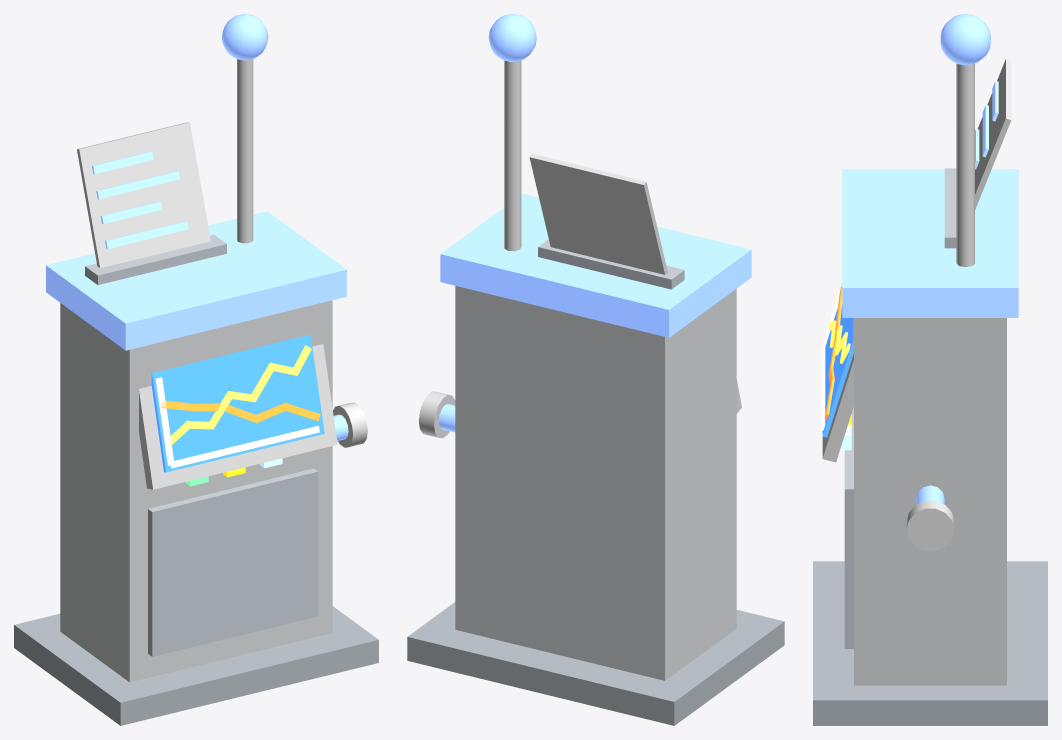
The model's file is Collector.glb.
3 views of the same model, side by side, from view 1: azimuth 30°, elevation 25°; view 2: azimuth 150°, elevation 25°; view 3: azimuth 270°, elevation 25° (orthographic). The views are drawn at different scales.
Visible parts, largest first — view 1: cabinet, door, cap, plinth, screen, sheet, bezel, antenna, record_line (×4), slot, axis (×2), antenna_tip (+1 smaller); view 2: cabinet, cap, plinth, sheet, antenna, slot, antenna_tip, socket_cap; view 3: cabinet, cap, plinth, antenna, sheet, door, antenna_tip, socket_cap, screen, bezel, slot, axis (+1 smaller).
Boxes of the visible parts, x1,y1,x2,y2 form: cabinet: [60, 300, 332, 682]; door: [148, 468, 318, 656]; cap: [46, 211, 346, 350]; plinth: [14, 606, 378, 725]; screen: [151, 334, 324, 472]; sheet: [77, 122, 210, 268]; bezel: [139, 344, 337, 489]; antenna: [237, 59, 253, 243]; record_line (×4): [92, 151, 188, 249]; slot: [85, 235, 226, 284]; axis (×2): [155, 377, 319, 468]; antenna_tip: [221, 14, 268, 60]; cabinet: [455, 286, 736, 680]; cap: [440, 193, 751, 337]; plinth: [407, 602, 784, 725]; sheet: [529, 153, 667, 274]; antenna: [504, 60, 521, 251]; slot: [538, 239, 684, 289]; antenna_tip: [488, 14, 536, 61]; socket_cap: [419, 391, 455, 438]; cabinet: [854, 318, 1006, 685]; cap: [842, 169, 1018, 317]; plinth: [813, 561, 1047, 725]; antenna: [956, 63, 974, 267]; sheet: [975, 59, 1011, 209]; door: [844, 407, 853, 648]; antenna_tip: [940, 14, 990, 65]; socket_cap: [906, 500, 954, 550]; screen: [822, 305, 853, 437]; bezel: [822, 353, 853, 462]; slot: [944, 168, 956, 248]; axis: [821, 345, 825, 430].
Bounding box in the file's own units: 1.57 × 3.17 × 1.
